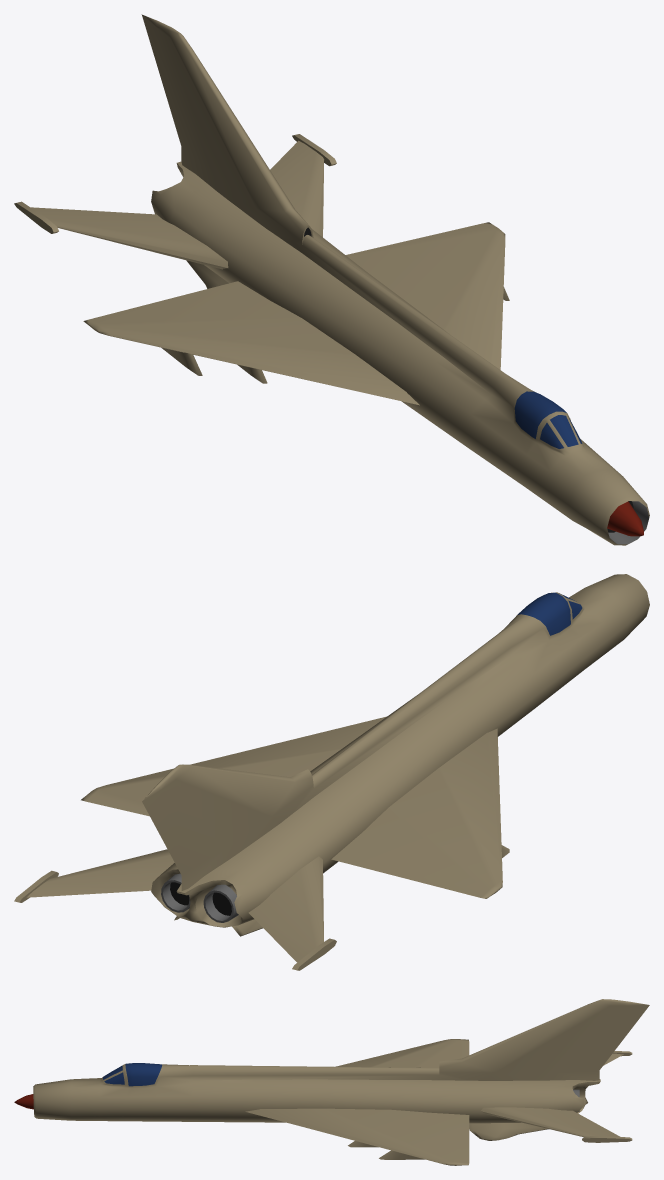
3 views of the same model, one above another, from view 1: azimuth 30°, elevation 25°; view 2: azimuth 150°, elevation 25°; view 3: azimuth 270°, elevation 25° (orthographic). The views are drawn at different scales.
Parts seen in each view (by area): view 1: shenyang_j8II.002; view 2: shenyang_j8II.002; view 3: shenyang_j8II.002.
Boxes of the visible parts, x1,y1,x2,y2 form: shenyang_j8II.002: (14,14,649,545); shenyang_j8II.002: (14,574,649,970); shenyang_j8II.002: (14,999,649,1165).
Bounding box in the file's own units: 9.35 × 4.44 × 20.04.
